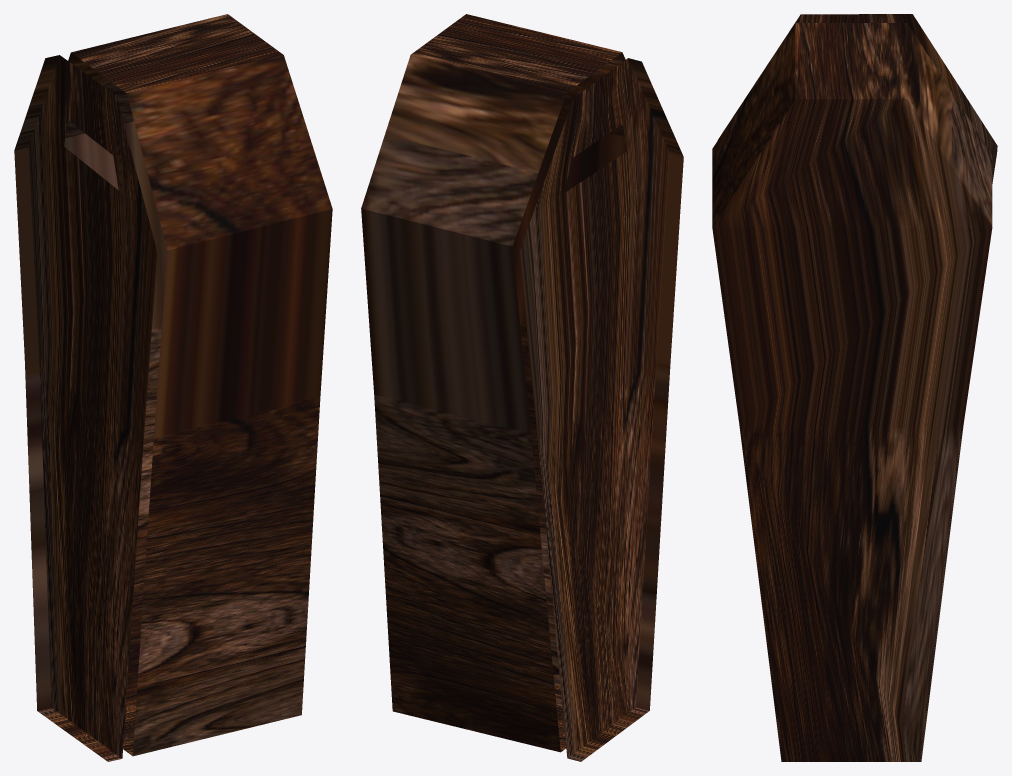
The model's file is Closed_Coffin_PeekYes .glb.
3 renders of one model, left to right at view 1: azimuth 30°, elevation 25°; view 2: azimuth 150°, elevation 25°; view 3: azimuth 270°, elevation 25°, orthographic.
Visible parts, largest first — view 1: Coffin_Open With Lid_Closed, Coffin_Lid.001; view 2: Coffin_Open With Lid_Closed, Coffin_Lid.001; view 3: Coffin_Open With Lid_Closed, Coffin_Lid.001.
Boxes of the visible parts, bbox=[...] form: Coffin_Open With Lid_Closed: bbox=[64, 14, 332, 756]; Coffin_Lid.001: bbox=[14, 55, 157, 761]; Coffin_Open With Lid_Closed: bbox=[361, 14, 626, 752]; Coffin_Lid.001: bbox=[519, 58, 683, 761]; Coffin_Open With Lid_Closed: bbox=[712, 23, 992, 761]; Coffin_Lid.001: bbox=[717, 14, 997, 183].
Bounding box in the file's own units: 1.58 × 5.2 × 2.04.
1 material, 1 textured.
